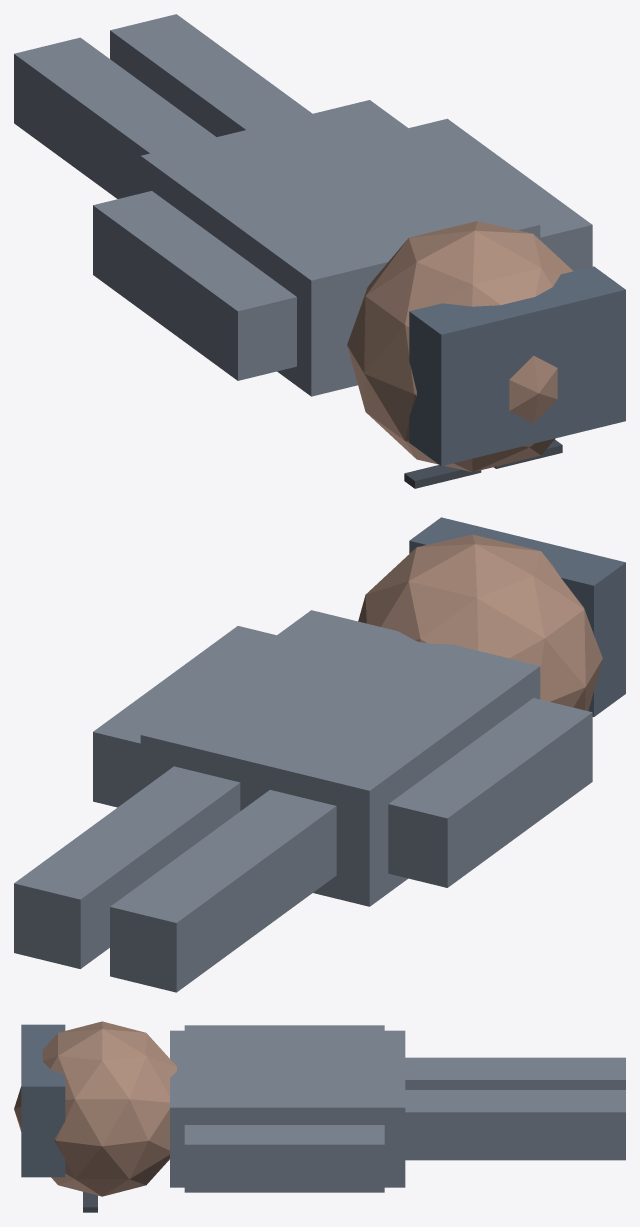
File: engineer_variant_4.glb
3 views of the same model, one above another, from view 1: azimuth 30°, elevation 25°; view 2: azimuth 150°, elevation 25°; view 3: azimuth 270°, elevation 25° (orthographic). The views are drawn at different scales.
Parts seen in each view (by area): view 1: torso_2, hair_6, head_5, arm_l_3, leg_l_0, leg_r_1, arm_r_4, glasses_l_7; view 2: torso_2, leg_l_0, head_5, arm_l_3, leg_r_1, arm_r_4, hair_6; view 3: torso_2, head_5, leg_r_1, arm_r_4, leg_l_0, hair_6, arm_l_3, glasses_r_8.
Boxes of the visible parts, x1,y1,x2,y2 form: torso_2: (140,100,540,396); hair_6: (409,266,625,466); head_5: (347,221,573,472); arm_l_3: (93,191,296,380); leg_l_0: (14,37,216,198); leg_r_1: (110,14,312,136); arm_r_4: (409,118,592,270); glasses_l_7: (404,465,481,488); torso_2: (140,610,540,906); leg_l_0: (110,790,336,992); head_5: (358,534,602,710); arm_l_3: (388,698,592,887); leg_r_1: (14,766,240,968); arm_r_4: (93,626,276,807); hair_6: (409,517,625,716); torso_2: (170,1030,405,1187); head_5: (14,1021,177,1196); leg_r_1: (405,1090,625,1160); arm_r_4: (184,1125,384,1192); leg_l_0: (405,1057,625,1089); hair_6: (21,1024,65,1177); arm_l_3: (184,1025,384,1030); glasses_r_8: (83,1192,97,1212).
Bounding box in the file's own units: 0.96 × 0.6 × 2.08.
